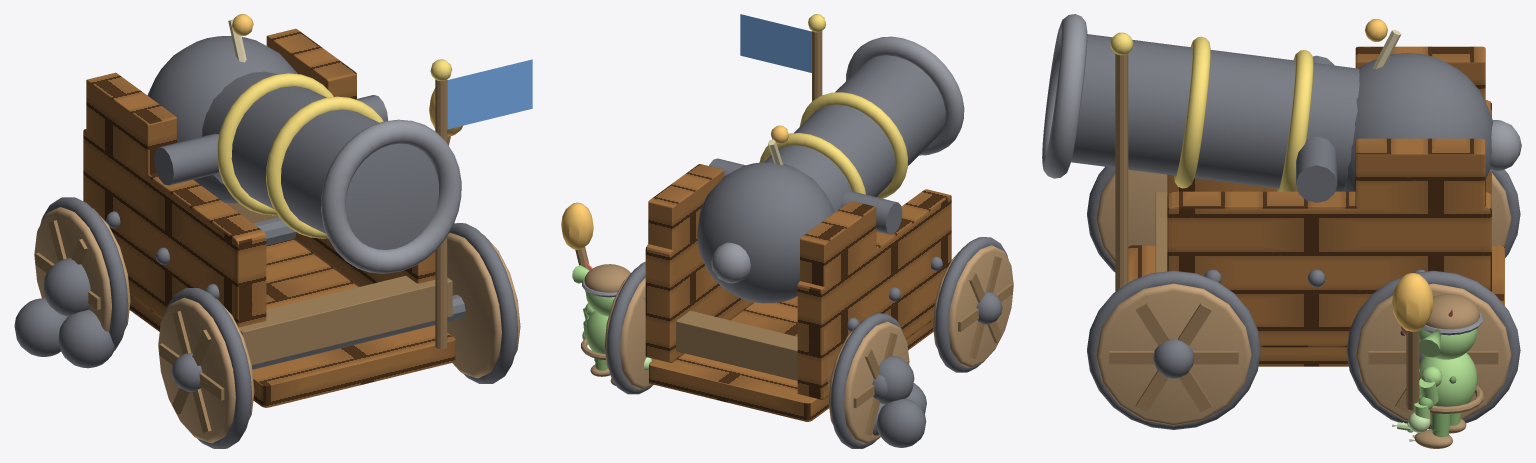
The model's file is tower_cannon.glb.
3 renders of one model, left to right at view 1: azimuth 30°, elevation 25°; view 2: azimuth 150°, elevation 25°; view 3: azimuth 270°, elevation 25°, orthographic. The views are drawn at different scales.
Parts seen in each view (by area): view 1: Barrel, Cheek, BasePlank, CrossBeam, MuzzleRing, Breech, CheekStep, Wheel, Wheel.002, Flag, Wheel.001, Band (+17 smaller); view 2: Cheek, Breech, Barrel, BasePlank, Cheek.001, CrossBeam.001, CheekStep, Wheel, CheekStep.001, MuzzleRing, Wheel.001, Flag (+18 smaller); view 3: Cheek.001, Barrel, Wheel.002, Breech, CheekStep.001, Wheel.003, MuzzleRing, WheelRim.002, WheelRim.003, Wheel, BasePlank, CannonPole (+22 smaller).
Boxes of the visible parts, x1,y1,x2,y2 form: Barrel: [202, 71, 439, 249]; Cheek: [83, 129, 266, 327]; BasePlank: [129, 239, 455, 407]; CrossBeam: [239, 275, 452, 365]; MuzzleRing: [321, 119, 461, 273]; Breech: [147, 36, 297, 203]; CheekStep: [86, 72, 176, 177]; Wheel: [158, 297, 254, 443]; Wheel.002: [447, 232, 520, 378]; Flag: [447, 59, 532, 129]; Wheel.001: [34, 207, 130, 331]; Band: [266, 96, 383, 238]; Cheek: [797, 189, 951, 399]; Breech: [697, 162, 834, 303]; Barrel: [764, 55, 945, 212]; BasePlank: [649, 296, 933, 421]; Cheek.001: [645, 235, 754, 362]; CrossBeam.001: [676, 310, 832, 387]; CheekStep: [800, 201, 876, 288]; Wheel: [932, 245, 1013, 367]; CheekStep.001: [648, 164, 724, 251]; MuzzleRing: [846, 36, 964, 155]; Wheel.001: [828, 321, 909, 443]; Flag: [740, 14, 811, 72]; Cheek.001: [1167, 191, 1491, 347]; Barrel: [1071, 34, 1359, 191]; Wheel.002: [1096, 283, 1251, 425]; Breech: [1342, 53, 1493, 191]; CheekStep.001: [1355, 138, 1485, 210]; Wheel.003: [1355, 283, 1511, 421]; MuzzleRing: [1042, 14, 1087, 178]; WheelRim.002: [1087, 270, 1260, 429]; WheelRim.003: [1346, 270, 1520, 429]; Wheel: [1096, 169, 1167, 263]; BasePlank: [1128, 245, 1504, 366]; CannonPole: [1115, 53, 1128, 291].
Bounding box in the file's own units: 2.03 × 1.56 × 1.85.
20 materials, 1 textured.
